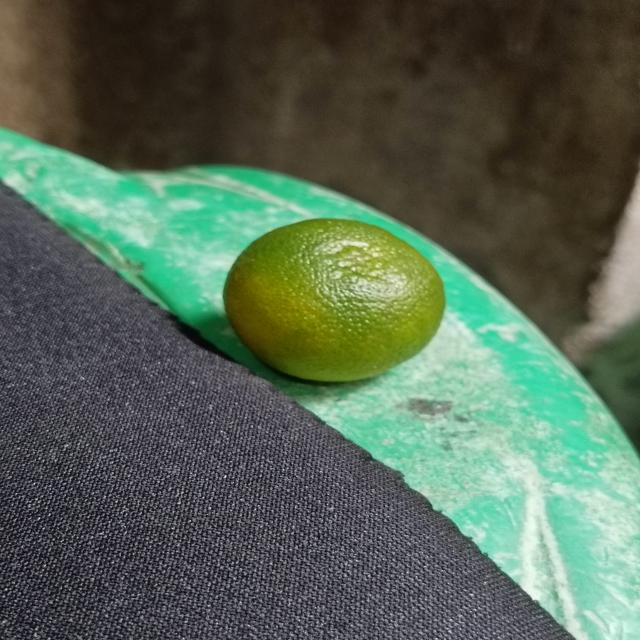heathy: (218, 214, 445, 380)
